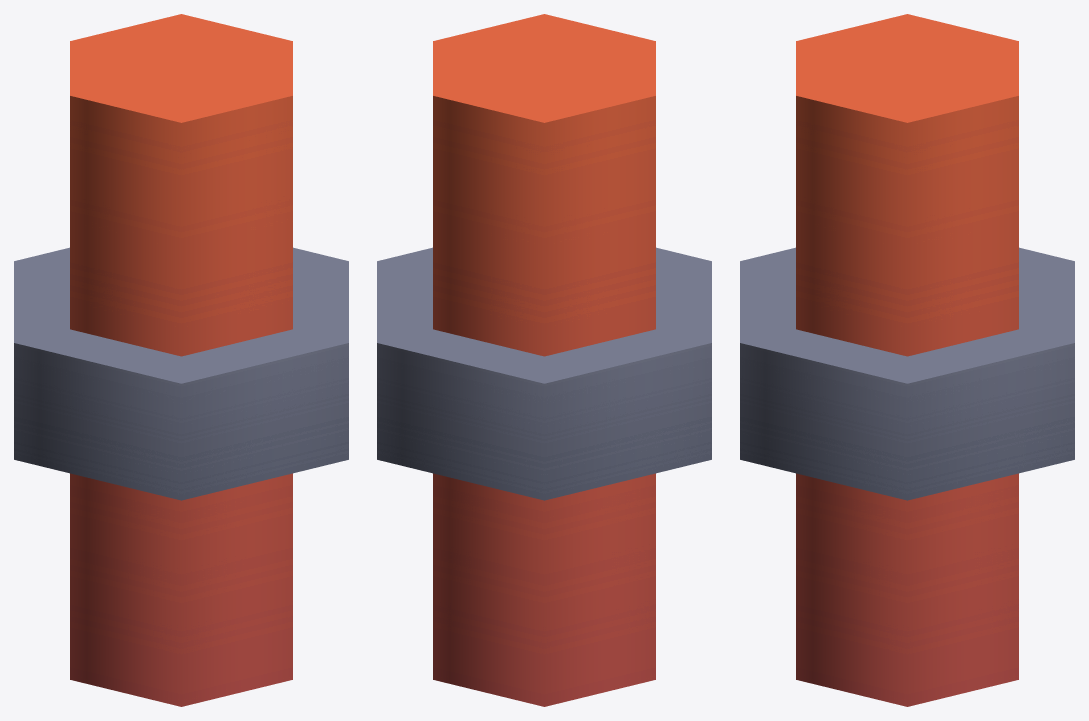
The model's file is pipe-half-section.glb.
3 views of the same model, side by side, from view 1: azimuth 30°, elevation 25°; view 2: azimuth 150°, elevation 25°; view 3: azimuth 270°, elevation 25° (orthographic).
Visible parts, largest first — view 1: pipe-half-section; view 2: pipe-half-section; view 3: pipe-half-section.
Boxes of the visible parts, x1,y1,x2,y2 form: pipe-half-section: (14, 14, 348, 706); pipe-half-section: (377, 14, 711, 706); pipe-half-section: (740, 14, 1074, 706).
Size of the model in its own units: 0.3 by 0.5 by 0.2598.
1 material, 1 textured.
